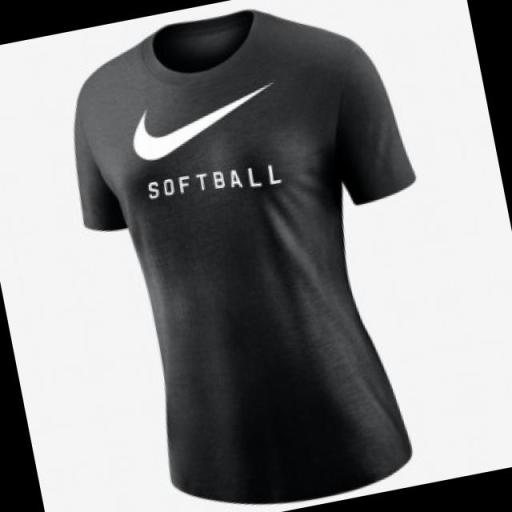Nike: (115, 77, 292, 176)
